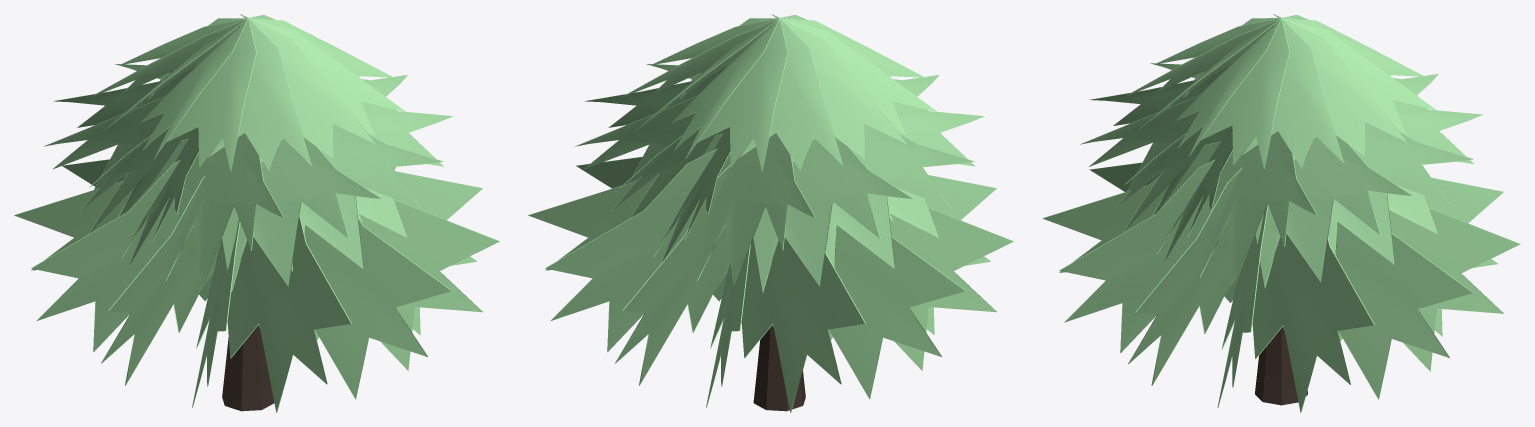
Rendered from tree1.fbx.
3 views of the same model, side by side, from view 1: azimuth 30°, elevation 25°; view 2: azimuth 150°, elevation 25°; view 3: azimuth 270°, elevation 25° (orthographic).
Visible parts, largest first — view 1: polySurface8; view 2: polySurface8; view 3: polySurface8.
Boxes of the visible parts, box(x1,y1,x2,y2) form: polySurface8: box(14, 14, 499, 412); polySurface8: box(528, 14, 1013, 412); polySurface8: box(1042, 14, 1520, 412).
Bounding box in the file's own units: 853 × 740 × 853.
